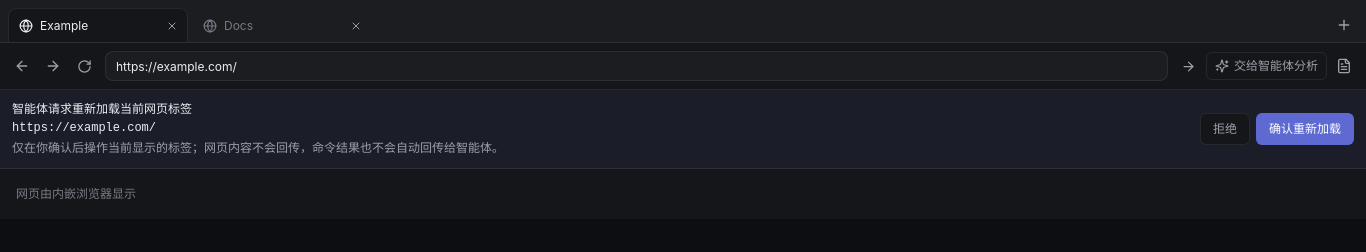
Test case: embedded browser › keeps a failed native action pending for manual retry without a success receipt
Expected: the tab "Example" is shown, [9,9,161,42]
Click the button "确认重新加载" at [1305, 129], box [1256,113,1354,145]
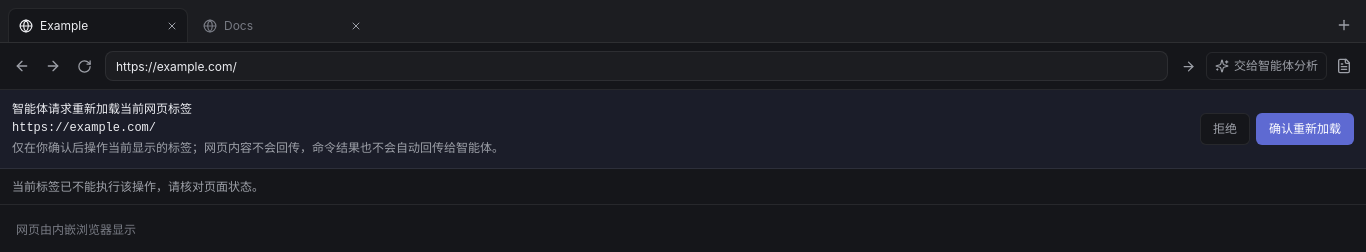
Expected: the text "当前标签已不能执行该操作，请核对页面状态。" is shown, [0,169,1365,205]
